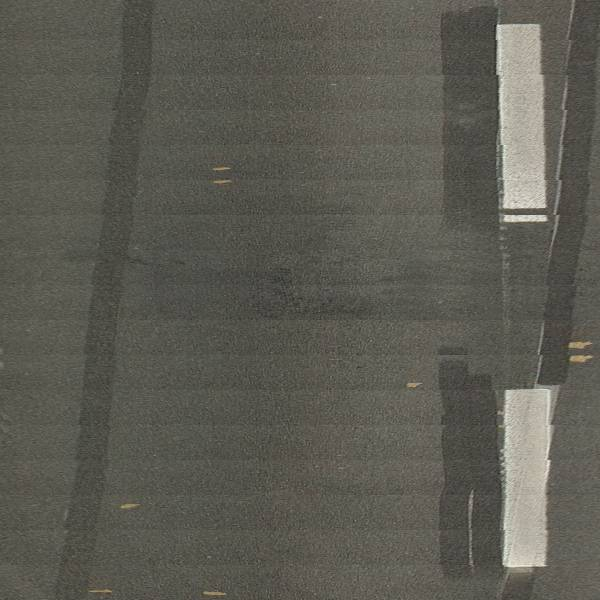road_damage: (242, 258, 390, 327)
